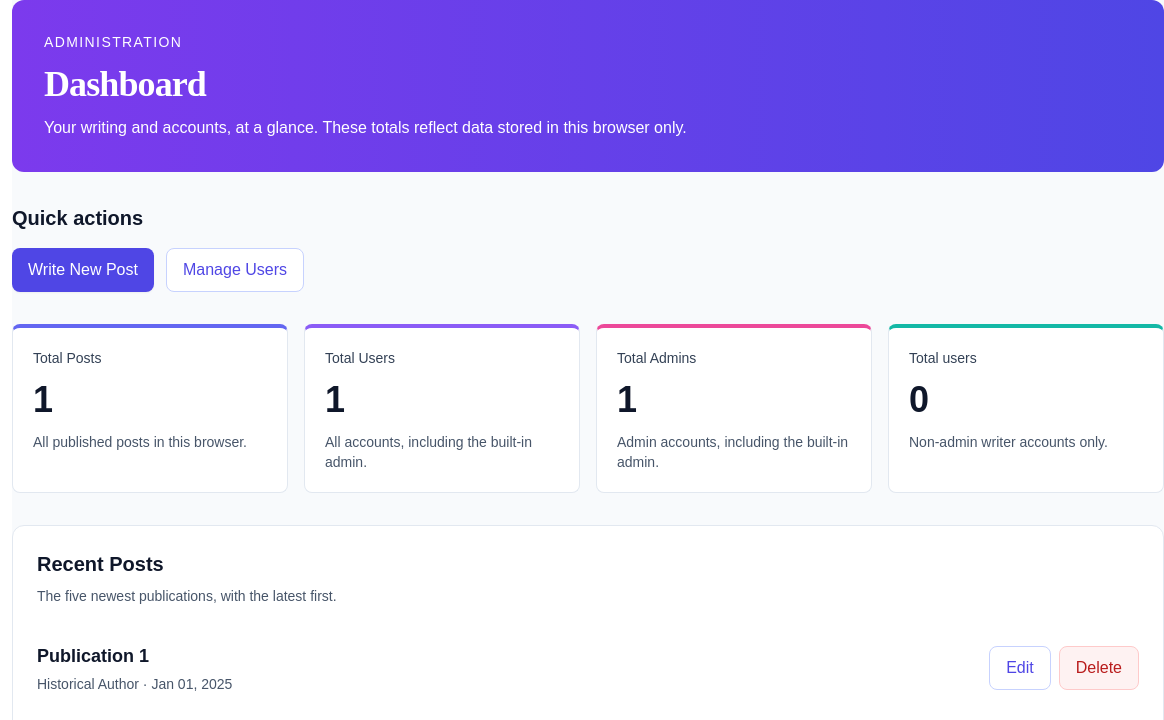
Test: shows default-only counts and an empty state, including after deleting the last post
Click the button with aria-label "Delete Publication 1" at (1099, 668), box [1059,646,1139,690]
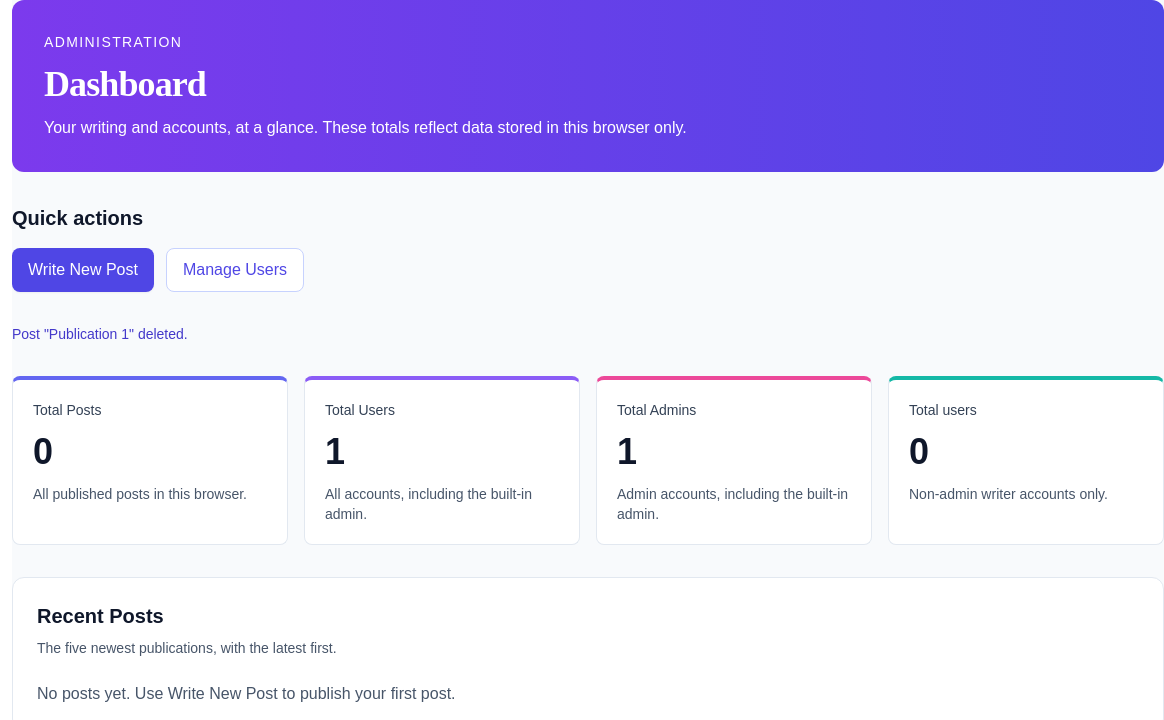
Expected: the text "0" below "Total Posts" is shown, [33,431,53,472]
Expected: the text "No posts yet. Use Write New Post to publish your first post." is shown, [37,685,456,702]
